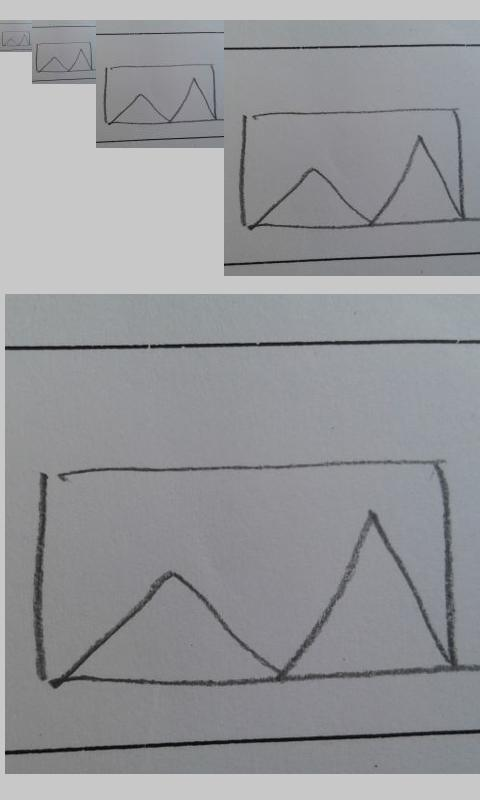image_view: (34, 461, 462, 687), (236, 105, 468, 231), (103, 64, 220, 124), (34, 41, 93, 73), (1, 30, 31, 47)
